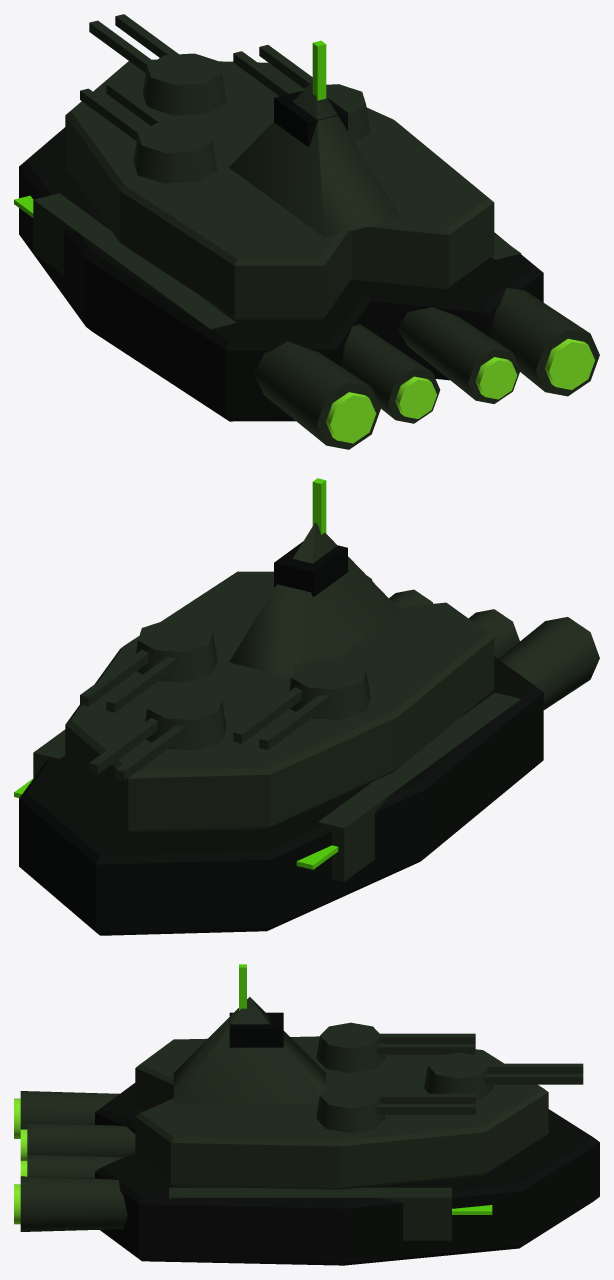
File: Battleship.obj
3 renders of one model, top to bottom at view 1: azimuth 30°, elevation 25°; view 2: azimuth 150°, elevation 25°; view 3: azimuth 270°, elevation 25°, orthographic. The views are drawn at different scales.
Visible parts, largest first — view 1: battleship_spine, battleship_hull, battleship_tower, battleship_engine_o_nacelle, battleship_engine_i_nacelle, battleship_armour, battleship_turret_1, battleship_turret_0, battleship_engine_o_bell, battleship_engine_i_bell, battleship_barrel_0, battleship_barrel_1 (+4 smaller); view 2: battleship_spine, battleship_hull, battleship_tower, battleship_armour, battleship_engine_o_nacelle, battleship_turret_0, battleship_turret_2, battleship_turret_1, battleship_barrel_0, battleship_barrel_1, battleship_command, battleship_barrel_2 (+3 smaller); view 3: battleship_spine, battleship_hull, battleship_tower, battleship_engine_o_nacelle, battleship_engine_i_nacelle, battleship_armour, battleship_turret_1, battleship_turret_2, battleship_turret_0, battleship_barrel_0, battleship_barrel_2, battleship_barrel_1 (+2 smaller).
Boxes of the visible parts, left/top/right/bottom form: battleship_spine: left=65, top=59, right=494, bottom=320; battleship_hull: left=19, top=127, right=543, bottom=421; battleship_tower: left=229, top=81, right=401, bottom=237; battleship_engine_o_nacelle: left=253, top=288, right=599, bottom=449; battleship_engine_i_nacelle: left=341, top=307, right=520, bottom=423; battleship_armour: left=33, top=193, right=521, bottom=329; battleship_turret_1: left=133, top=121, right=217, bottom=183; battleship_turret_0: left=142, top=53, right=226, bottom=115; battleship_engine_o_bell: left=326, top=338, right=594, bottom=443; battleship_engine_i_bell: left=395, top=357, right=517, bottom=418; battleship_barrel_0: left=89, top=14, right=178, bottom=72; battleship_barrel_1: left=80, top=82, right=169, bottom=140; battleship_spine: left=65, top=571, right=494, bottom=832; battleship_hull: left=19, top=656, right=543, bottom=935; battleship_tower: left=229, top=522, right=401, bottom=677; battleship_armour: left=33, top=692, right=521, bottom=881; battleship_engine_o_nacelle: left=367, top=576, right=599, bottom=709; battleship_turret_0: left=145, top=688, right=226, bottom=750; battleship_turret_2: left=136, top=620, right=217, bottom=682; battleship_turret_1: left=289, top=657, right=370, bottom=719; battleship_barrel_0: left=89, top=717, right=186, bottom=780; battleship_barrel_1: left=233, top=687, right=330, bottom=749; battleship_command: left=274, top=541, right=347, bottom=596; battleship_barrel_2: left=80, top=649, right=177, bottom=712; battleship_spine: left=135, top=1036, right=548, bottom=1189; battleship_hull: left=95, top=1083, right=599, bottom=1265; battleship_tower: left=173, top=997, right=325, bottom=1103; battleship_engine_o_nacelle: left=20, top=1091, right=127, bottom=1231; battleship_engine_i_nacelle: left=27, top=1123, right=135, bottom=1178; battleship_armour: left=169, top=1187, right=451, bottom=1240; battleship_turret_1: left=316, top=1022, right=385, bottom=1073; battleship_turret_2: left=316, top=1082, right=385, bottom=1132; battleship_turret_0: left=424, top=1052, right=493, bottom=1099; battleship_barrel_0: left=484, top=1063, right=583, bottom=1084; battleship_barrel_2: left=376, top=1093, right=475, bottom=1114; battleship_barrel_1: left=376, top=1033, right=475, bottom=1054.
Bounding box in the file's own units: 43.28 × 35.8 × 80.75.
